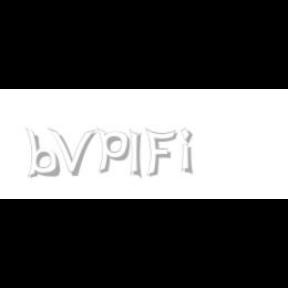F: (145, 128, 177, 178)
I: (130, 128, 142, 180)
V: (48, 128, 96, 176)
b: (25, 128, 63, 178)
i: (180, 128, 196, 176)
p: (97, 128, 134, 174)
